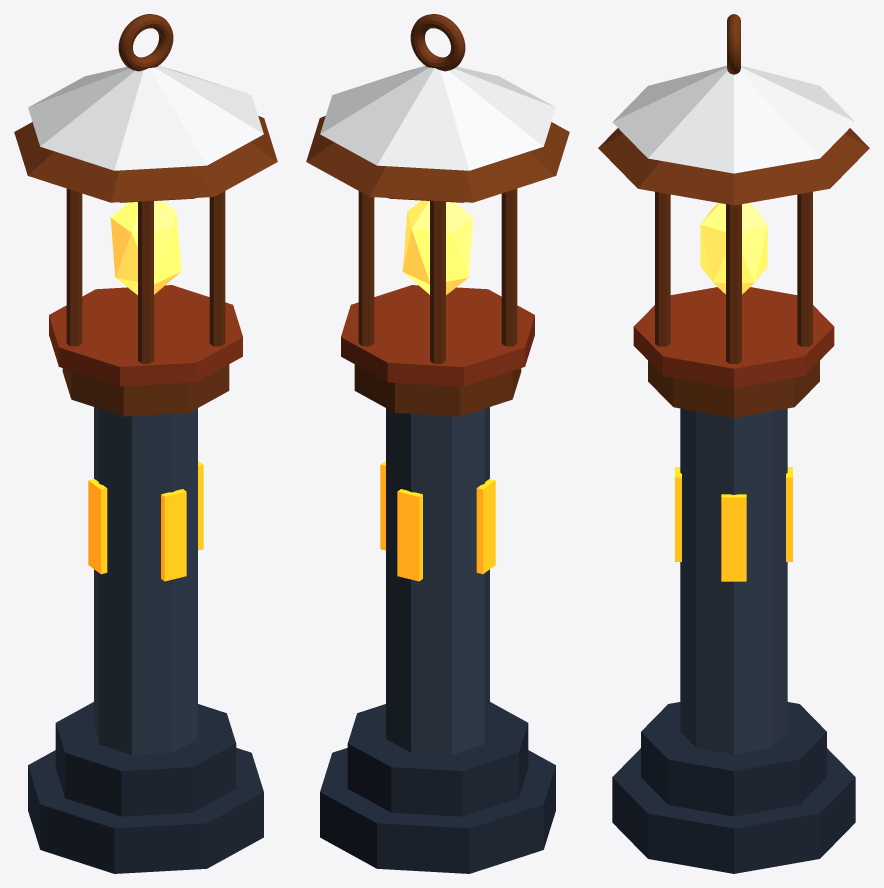
File: farol_runico.glb
3 renders of one model, left to right at view 1: azimuth 30°, elevation 25°; view 2: azimuth 150°, elevation 25°; view 3: azimuth 270°, elevation 25°, orthographic.
Visible parts, largest first — view 1: Cylinder.002, Cone.001, Cylinder, Cylinder.001, Cylinder.004, Cone, Cylinder.003, Icosphere, Cylinder.008, Cylinder.009, Cylinder.010, Cube.003 (+3 smaller); view 2: Cylinder.002, Cone.001, Cylinder, Cylinder.001, Cylinder.004, Cone, Cylinder.003, Icosphere, Cylinder.008, Cylinder.007, Cylinder.006, Cube.002 (+3 smaller); view 3: Cylinder.002, Cone.001, Cylinder, Cylinder.001, Cylinder.004, Cone, Cylinder.003, Icosphere, Cylinder.005, Cylinder.006, Cylinder.010, Cube (+3 smaller).
Boxes of the visible parts, <box> form: Cylinder.002: <box>94,407,197,754</box>; Cone.001: <box>28,66,263,170</box>; Cylinder: <box>28,748,263,873</box>; Cylinder.001: <box>55,702,236,816</box>; Cylinder.004: <box>49,285,242,386</box>; Cone: <box>14,116,277,202</box>; Cylinder.003: <box>62,364,229,416</box>; Icosphere: <box>110,200,181,294</box>; Cylinder.008: <box>66,188,82,346</box>; Cylinder.009: <box>138,201,153,363</box>; Cylinder.010: <box>209,191,225,346</box>; Cube.003: <box>161,489,186,581</box>; Cylinder.002: <box>386,407,489,754</box>; Cone.001: <box>320,66,555,170</box>; Cylinder: <box>320,748,555,873</box>; Cylinder.001: <box>347,702,528,816</box>; Cylinder.004: <box>341,285,534,386</box>; Cone: <box>306,116,569,202</box>; Cylinder.003: <box>354,364,521,416</box>; Icosphere: <box>402,200,473,294</box>; Cylinder.008: <box>501,188,517,346</box>; Cylinder.007: <box>430,201,445,363</box>; Cylinder.006: <box>358,191,374,346</box>; Cube.002: <box>397,489,422,581</box>; Cylinder.002: <box>680,408,787,754</box>; Cone.001: <box>612,65,855,173</box>; Cylinder: <box>612,748,855,873</box>; Cylinder.001: <box>641,702,826,816</box>; Cylinder.004: <box>633,287,834,388</box>; Cone: <box>598,128,869,205</box>; Cylinder.003: <box>648,361,819,417</box>; Icosphere: <box>700,203,767,294</box>; Cylinder.005: <box>726,204,741,363</box>; Cylinder.006: <box>797,192,812,346</box>; Cylinder.010: <box>655,192,670,346</box>; Cube: <box>721,494,746,581</box>.
Bounding box in the file's own units: 0.76 × 2.49 × 0.76.
